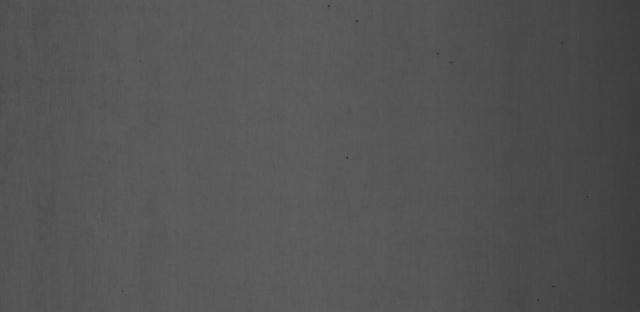inclusion: (432, 47, 455, 67), (352, 14, 362, 26), (323, 3, 334, 12)
